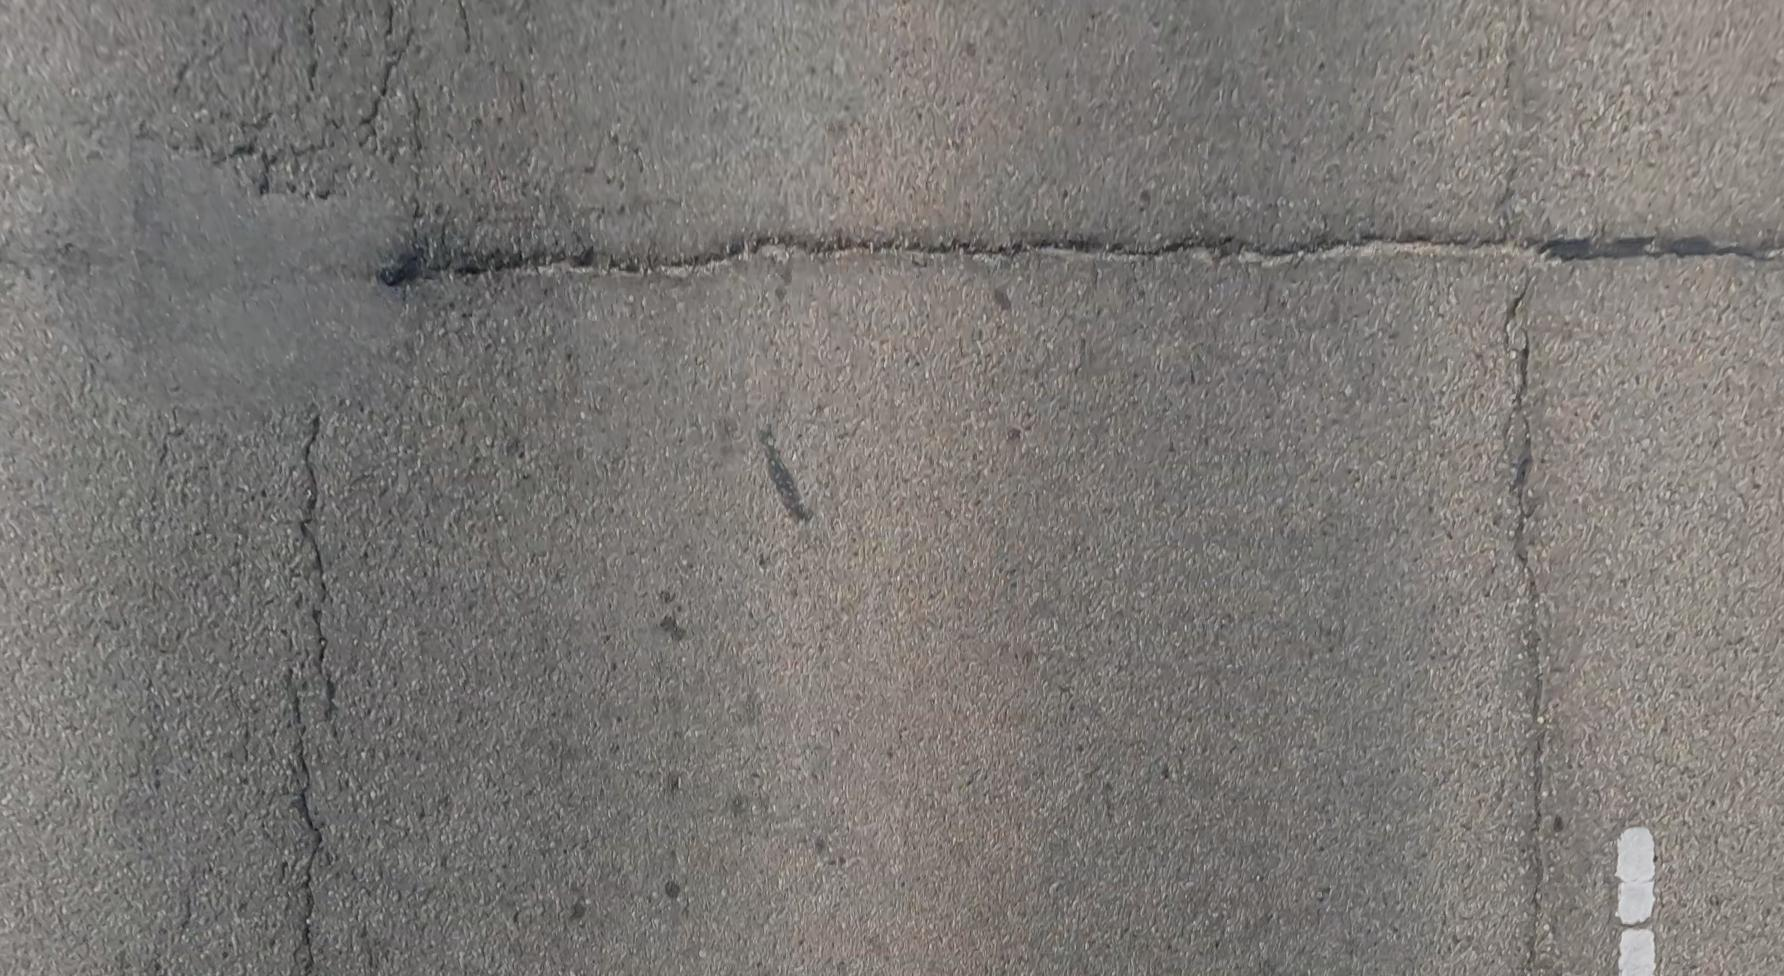pothole_patch_poor: (19, 126, 428, 428)
